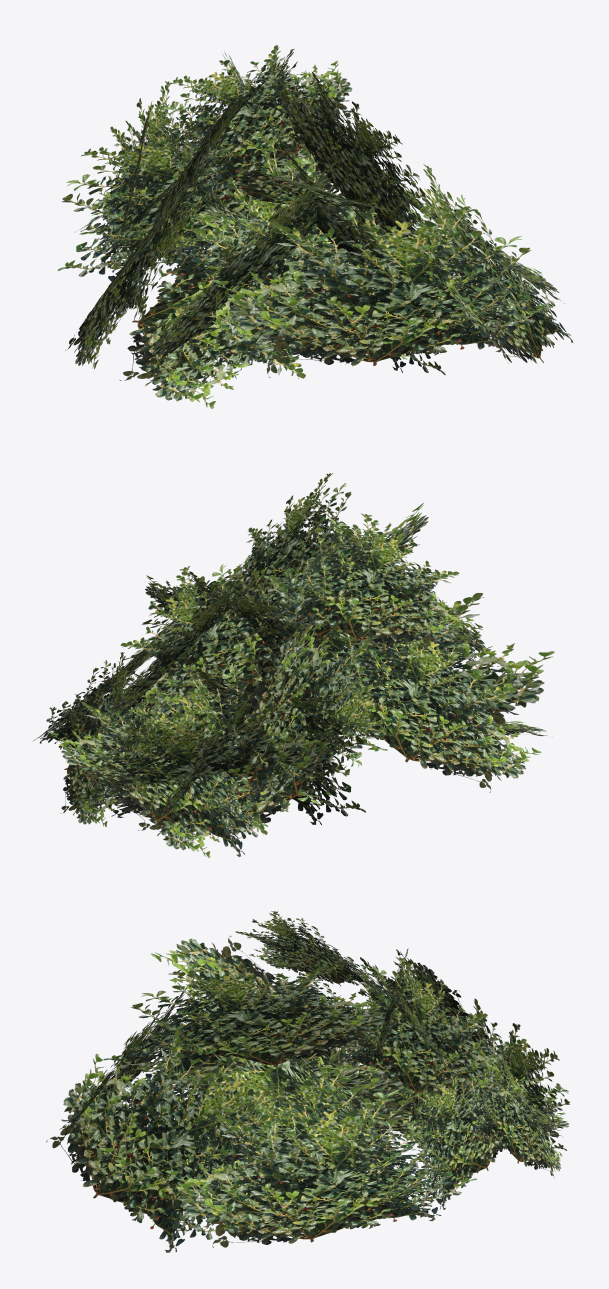
The model's file is Bush8.gltf.
3 views of the same model, one above another, from view 1: azimuth 30°, elevation 25°; view 2: azimuth 150°, elevation 25°; view 3: azimuth 270°, elevation 25° (orthographic). The views are drawn at different scales.
Visible parts, largest first — view 1: BushBig2; view 2: BushBig2; view 3: BushBig2.
Boxes of the visible parts, x1,y1,x2,y2 form: BushBig2: [57, 45, 573, 408]; BushBig2: [33, 473, 554, 857]; BushBig2: [46, 911, 569, 1252].
Size of the model in its own units: 63.78 by 38.28 by 73.82.
1 material, 1 textured.
